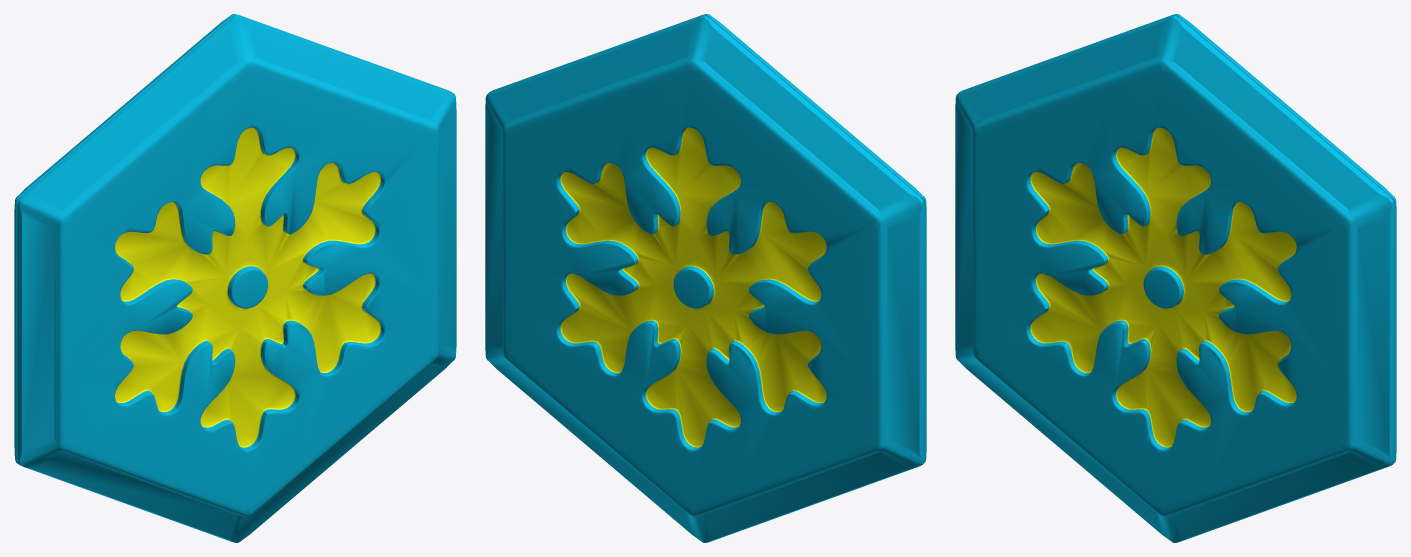
File: coin1.fbx
The picture shows the model from 3 angles, left to right: view 1: azimuth 30°, elevation 25°; view 2: azimuth 150°, elevation 25°; view 3: azimuth 330°, elevation 25°; orthographic projection.
Parts seen in each view (by area): view 1: snow coin.001; view 2: snow coin.001; view 3: snow coin.001.
Boxes of the visible parts, x1,y1,x2,y2 form: snow coin.001: (14, 14, 456, 542); snow coin.001: (485, 14, 926, 542); snow coin.001: (955, 14, 1396, 542).
Size of the model in its own units: 431 by 495 by 49.42.
